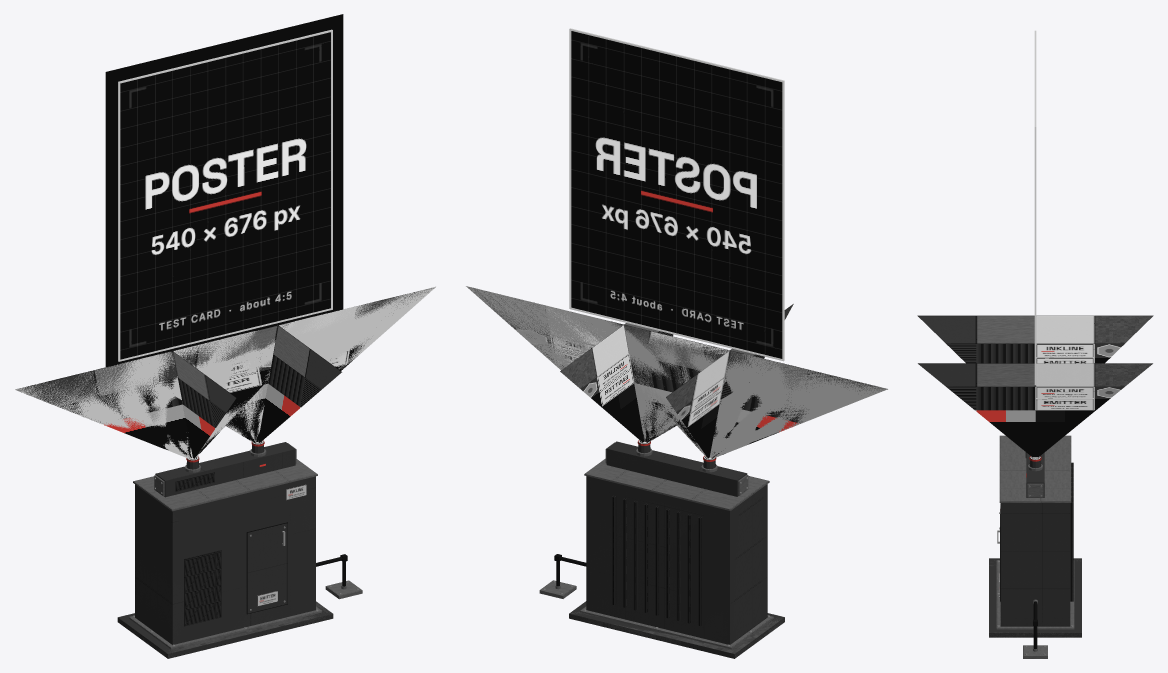
The model's file is display_poster.glb.
The picture shows the model from 3 angles, left to right: view 1: azimuth 30°, elevation 25°; view 2: azimuth 150°, elevation 25°; view 3: azimuth 270°, elevation 25°; orthographic projection. The views are drawn at different scales.
Visible parts, largest first — view 1: screen_poster, farBody, beam, body, glow; view 2: screen_poster, farBody, body, beam, glow; view 3: beam, body, farBody, glow.
Part boxes in pixels (x1,y1,x2,y2): screen_poster: [120, 32, 330, 359]; farBody: [15, 287, 435, 658]; beam: [16, 14, 434, 458]; body: [118, 440, 362, 658]; glow: [118, 29, 332, 466]; screen_poster: [571, 31, 782, 358]; farBody: [466, 286, 887, 658]; body: [539, 440, 784, 657]; beam: [469, 287, 887, 458]; glow: [569, 28, 784, 459]; beam: [917, 315, 1153, 457]; body: [989, 435, 1081, 658]; farBody: [989, 467, 1081, 637]; glow: [1026, 30, 1040, 477].
Bounding box in the file's own units: 3.24 × 4.23 × 1.7.
Materials: 5 (5 with a texture image).
